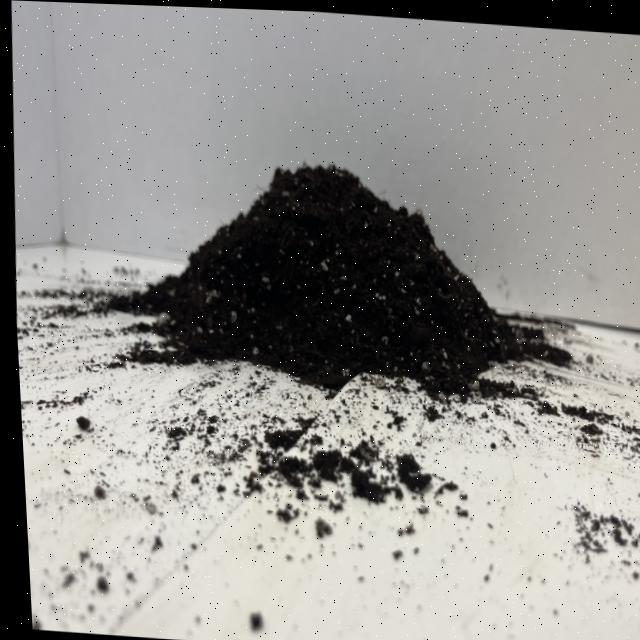soil: (102, 144, 562, 409)
